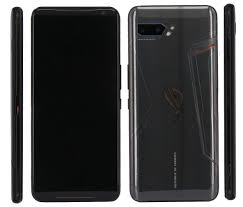asus: (126, 2, 222, 203)
